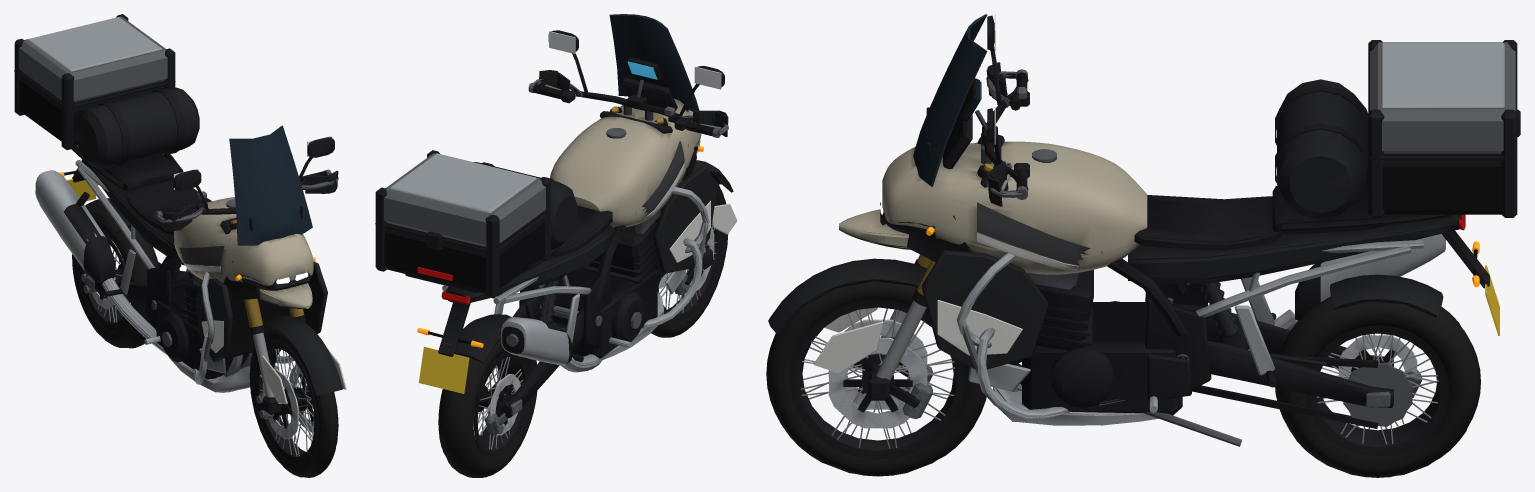
The model's file is bike10_tiger900.glb.
3 views of the same model, side by side, from view 1: azimuth 30°, elevation 25°; view 2: azimuth 150°, elevation 25°; view 3: azimuth 270°, elevation 25° (orthographic). The views are drawn at different scales.
Visible parts, largest first — view 1: body (×2), wheel_front (×2), wheel_rear (×2), handlebar (×2), disc_front (×2), fork_right; view 2: body (×2), wheel_rear (×2), handlebar (×2), wheel_front (×2), disc_rear (×2), fork_right; view 3: body (×2), wheel_rear (×2), wheel_front (×2), disc_front (×2), handlebar (×2), fork_left, disc_rear.
Boxes of the visible parts, x1,y1,x2,y2 form: body (×2): [14, 14, 346, 403]; wheel_front (×2): [249, 327, 338, 477]; wheel_rear (×2): [72, 212, 159, 348]; handlebar (×2): [154, 136, 338, 231]; disc_front (×2): [262, 364, 314, 439]; fork_right: [229, 220, 282, 419]; body (×2): [375, 14, 737, 434]; wheel_rear (×2): [438, 340, 537, 477]; handlebar (×2): [528, 30, 728, 137]; wheel_front (×2): [651, 177, 728, 337]; disc_rear (×2): [489, 374, 520, 435]; fork_right: [655, 117, 712, 295]; body (×2): [768, 14, 1520, 446]; wheel_rear (×2): [1275, 297, 1480, 477]; wheel_front (×2): [766, 281, 986, 476]; disc_front (×2): [828, 319, 927, 428]; handlebar (×2): [960, 14, 1029, 206]; fork_left: [868, 163, 993, 419]; disc_rear: [1338, 334, 1417, 378].
Bounding box in the file's own units: 0.902 × 1.52 × 2.35.
